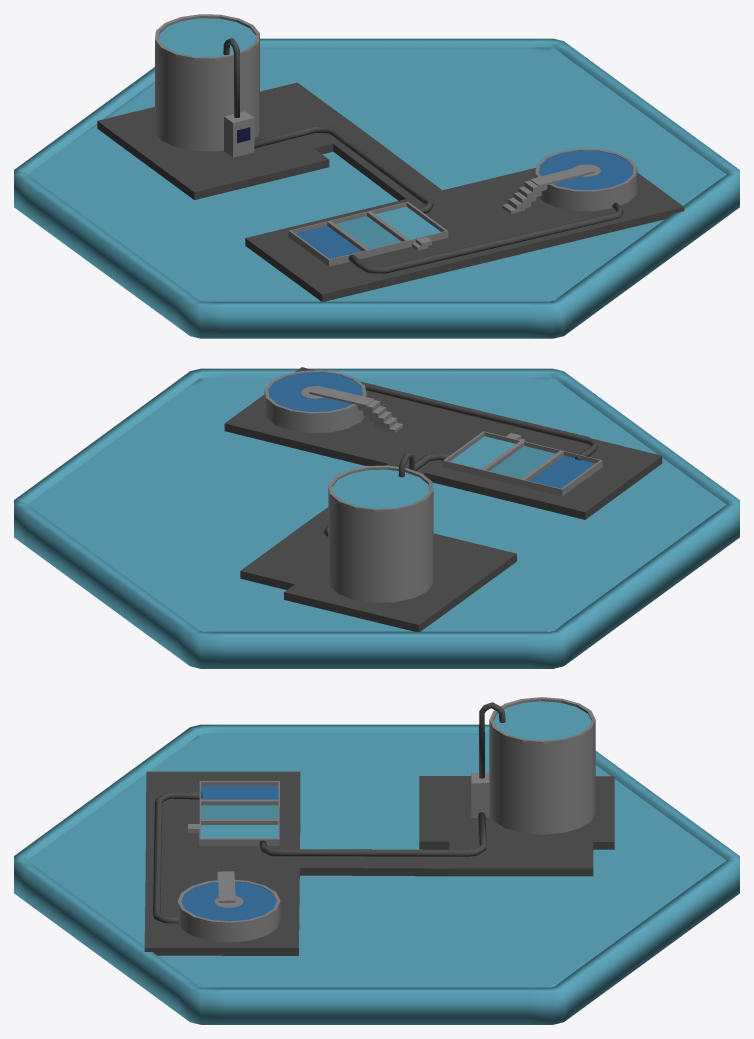
The model's file is Water_Manager.fbx.
The picture shows the model from 3 angles, top to bottom: view 1: azimuth 30°, elevation 25°; view 2: azimuth 150°, elevation 25°; view 3: azimuth 270°, elevation 25°; orthographic projection.
Visible parts, largest first — view 1: Cube, Cylinder.003; view 2: Cube, Cylinder.003; view 3: Cube, Cylinder.003.
Part boxes in pixels (box(x1,y1,x2,y2)): Cube: box(27, 14, 726, 301); Cylinder.003: box(14, 38, 739, 338); Cube: box(27, 367, 726, 631); Cylinder.003: box(14, 368, 739, 668); Cube: box(27, 697, 726, 987); Cylinder.003: box(14, 724, 739, 1024).
Size of the model in its own units: 114 by 25.28 by 100.
